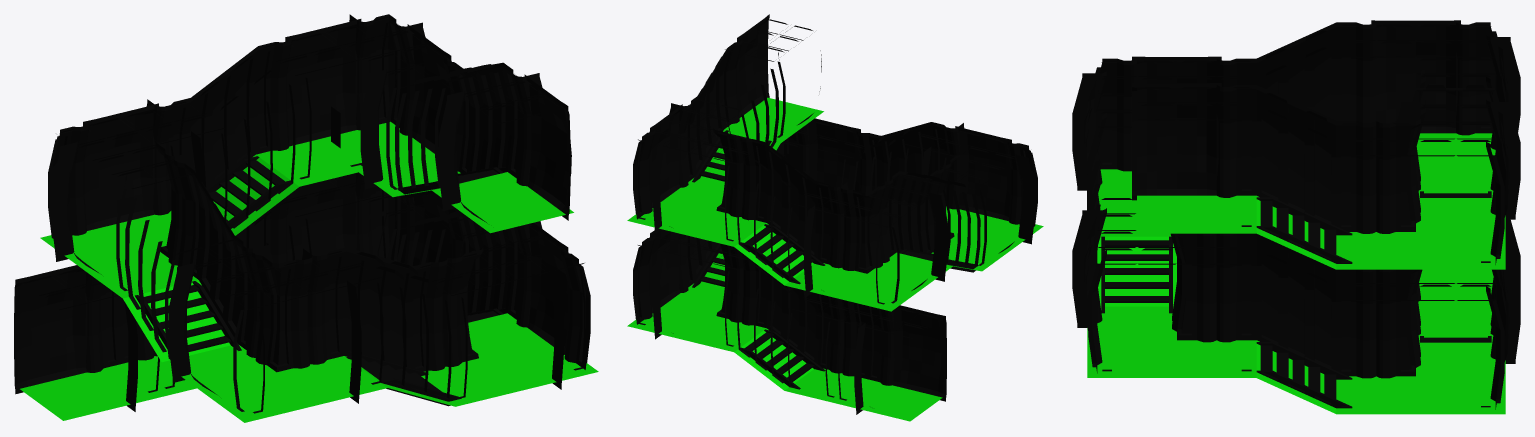
The model's file is corridor_c.glb.
The picture shows the model from 3 angles, left to right: view 1: azimuth 30°, elevation 25°; view 2: azimuth 150°, elevation 25°; view 3: azimuth 270°, elevation 25°; orthographic projection. The views are drawn at different scales.
Parts seen in each view (by area): view 1: Corridor_C_Wall_Panels, Corridor_C_Stone_Wall, Corridor_C_Floor, Corridor_C_Ceiling, Corridor_C_Stairs; view 2: Corridor_C_Wall_Panels, Corridor_C_Floor, Corridor_C_Stone_Wall, Corridor_C_Stairs, Corridor_C_Ceiling; view 3: Corridor_C_Wall_Panels, Corridor_C_Floor, Corridor_C_Stone_Wall, Corridor_C_Stairs, Corridor_C_Ceiling.
Part boxes in pixels (bbox=[...]): Corridor_C_Wall_Panels: bbox=[48, 14, 590, 413]; Corridor_C_Stone_Wall: bbox=[14, 19, 571, 394]; Corridor_C_Floor: bbox=[20, 121, 598, 422]; Corridor_C_Ceiling: bbox=[22, 17, 584, 310]; Corridor_C_Stairs: bbox=[135, 156, 503, 406]; Corridor_C_Wall_Panels: bbox=[633, 39, 1037, 414]; Corridor_C_Floor: bbox=[627, 97, 1043, 421]; Corridor_C_Stone_Wall: bbox=[649, 14, 1023, 401]; Corridor_C_Stairs: bbox=[692, 130, 978, 389]; Corridor_C_Ceiling: bbox=[638, 19, 1027, 338]; Corridor_C_Wall_Panels: bbox=[1072, 22, 1520, 409]; Corridor_C_Floor: bbox=[1087, 133, 1505, 414]; Corridor_C_Stone_Wall: bbox=[1083, 20, 1509, 361]; Corridor_C_Stairs: bbox=[1101, 191, 1491, 408]; Corridor_C_Ceiling: bbox=[1097, 24, 1495, 300].
Size of what is drawn, in the model's own units: 11.75 by 9.25 by 11.25.
